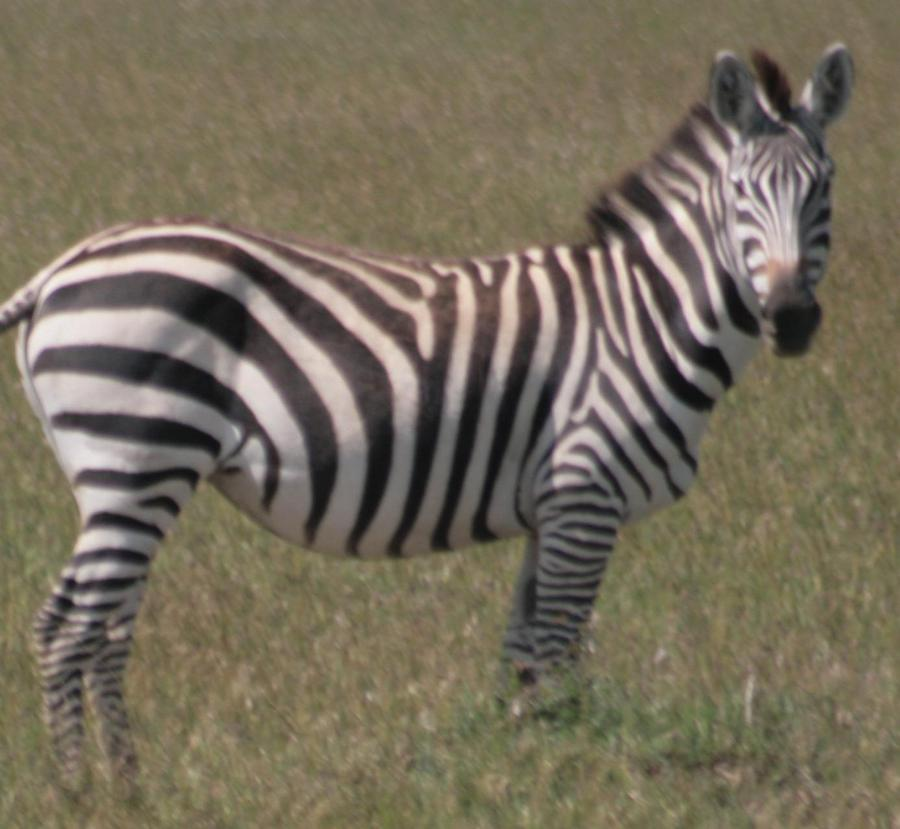zebra_plains: (19, 188, 730, 559)
